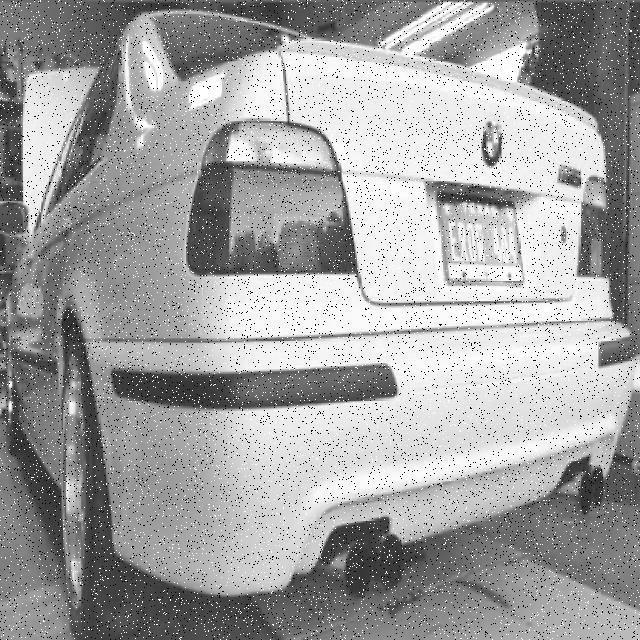LicensePlate: (435, 192, 524, 282)
